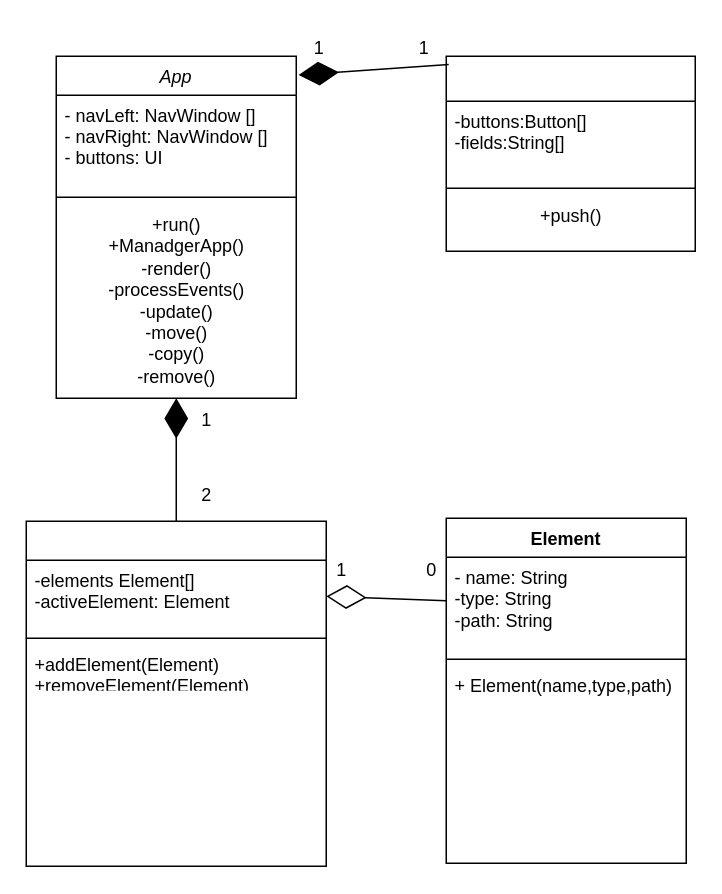
The diagram is 722 pixels wide and 894 high, and some of its shapes have lost their labels. Here are the shapes that lost their labels. From the top down, the box of each, then its label:
(445, 55, 695, 251): UI
(25, 520, 326, 866): Navigation Window
